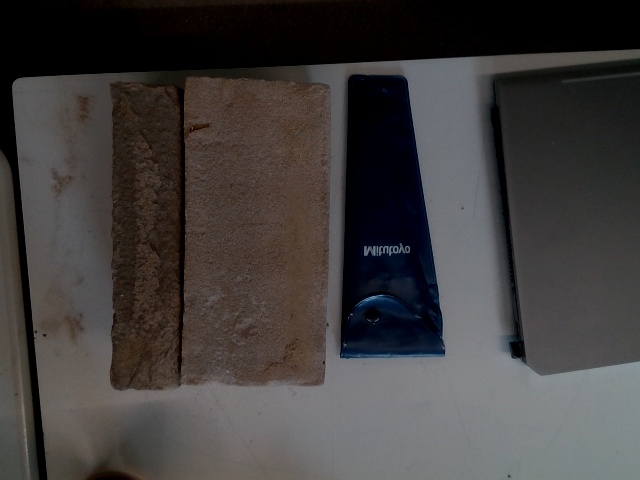brick: (178, 83, 332, 379)
